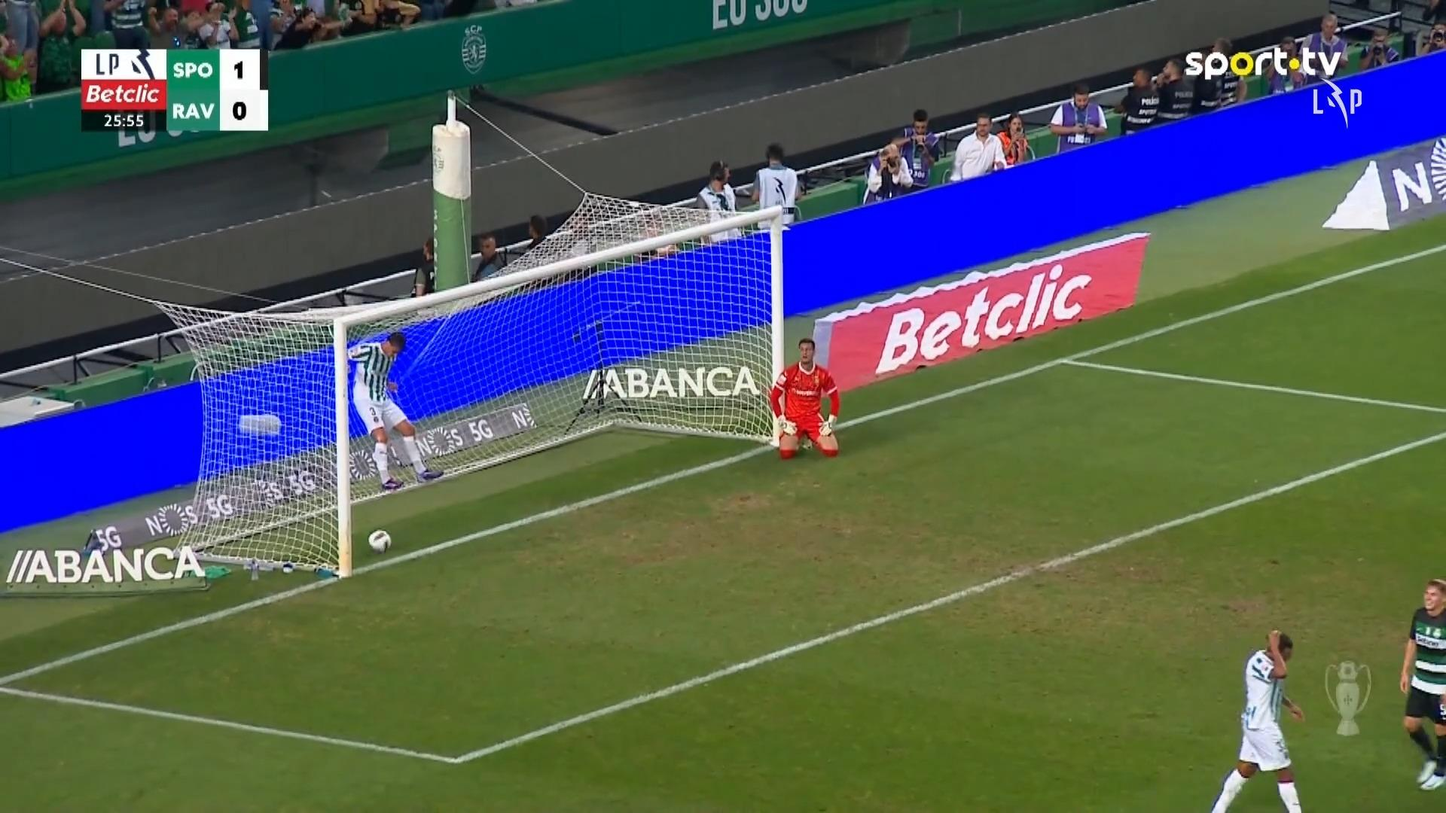ball: (368, 528, 390, 553)
goalkeeper: (768, 336, 840, 459)
player: (1209, 627, 1306, 811), (346, 330, 444, 492), (1398, 577, 1445, 790)
